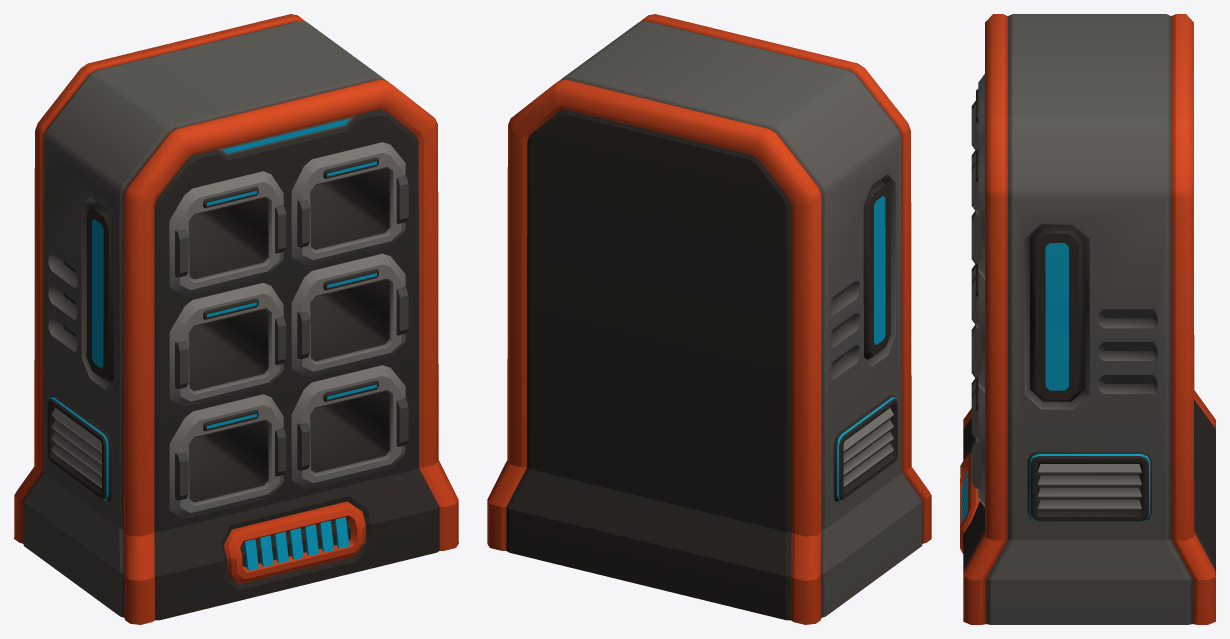
Rendered from Charging_Station_09.fbx.
3 renders of one model, left to right at view 1: azimuth 30°, elevation 25°; view 2: azimuth 150°, elevation 25°; view 3: azimuth 270°, elevation 25°, orthographic. The views are drawn at different scales.
Visible parts, largest first — view 1: Charging_Station_09; view 2: Charging_Station_09; view 3: Charging_Station_09.
Part boxes in pixels (x1,y1,x2,y2): Charging_Station_09: (14,14,458,624); Charging_Station_09: (487,14,931,624); Charging_Station_09: (960,14,1215,624).
Size of the model in its own units: 64.48 by 87.71 by 42.52.
